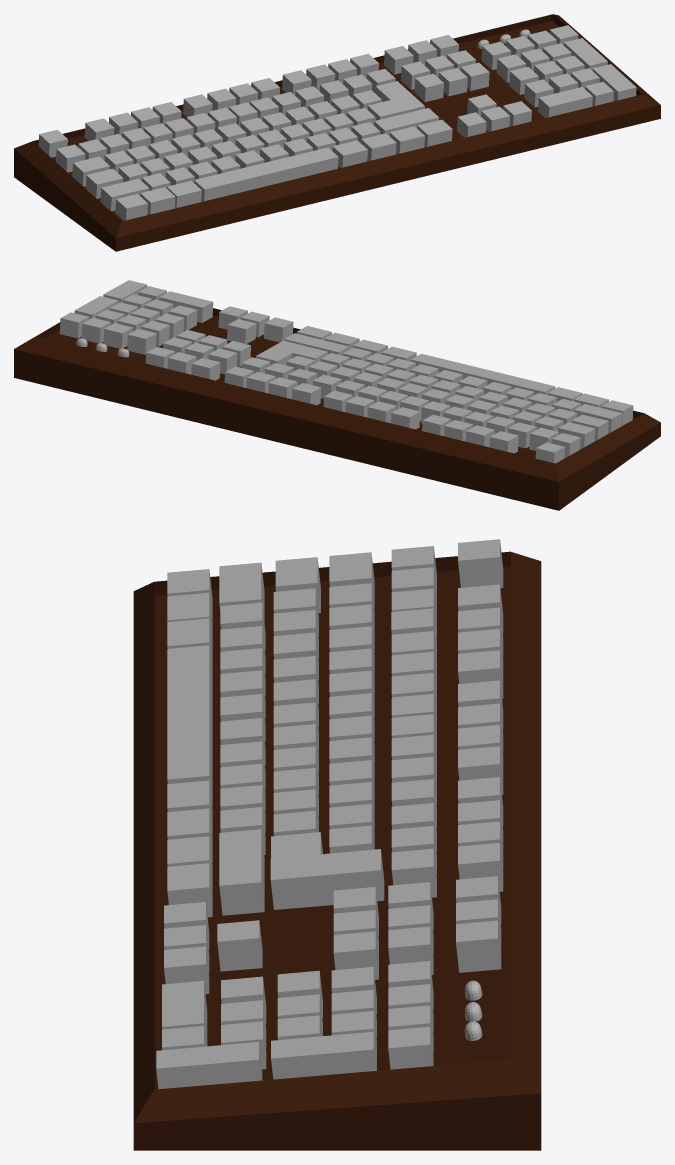
3 views of the same model, one above another, from view 1: azimuth 30°, elevation 25°; view 2: azimuth 150°, elevation 25°; view 3: azimuth 270°, elevation 25° (orthographic). The views are drawn at different scales.
Visible parts, largest first — view 1: Cube.015, Kostka; view 2: Cube.015, Kostka; view 3: Cube.015, Kostka, Cube.131.
Boxes of the visible parts, x1,y1,x2,y2 form: Cube.015: (38,25,636,220); Kostka: (14,14,660,251); Cube.015: (59,280,633,463); Kostka: (14,308,660,510); Cube.015: (156,539,503,1089); Kostka: (133,551,541,1150); Cube.131: (464,980,482,1040).
Size of the model in its own units: 127 by 10.45 by 41.02.
